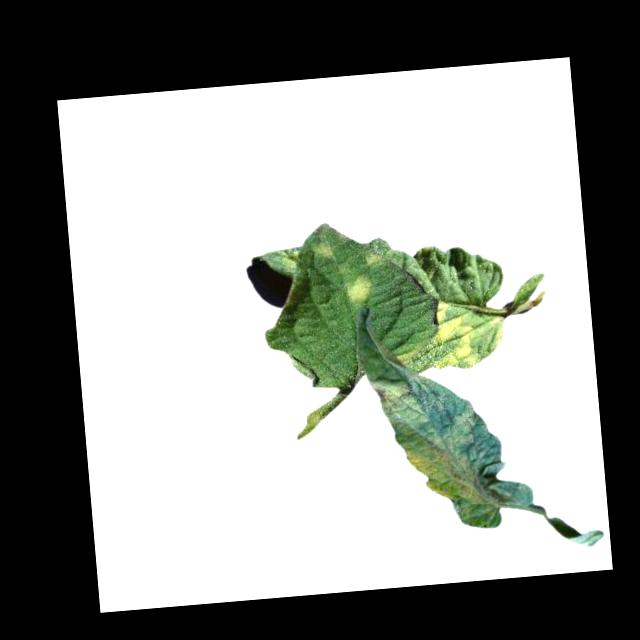Leaf_Mold: (403, 437, 486, 508), (427, 298, 480, 370), (368, 373, 430, 421), (346, 272, 376, 307), (364, 246, 388, 268), (311, 238, 334, 260)
